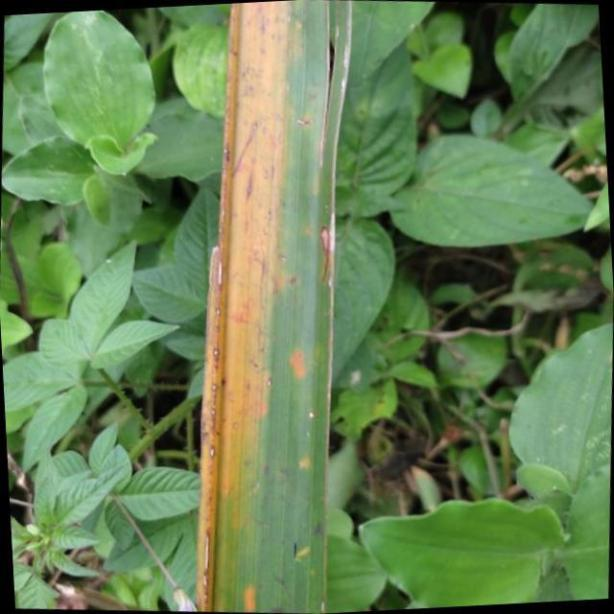Megnesium: (200, 0, 353, 614)
